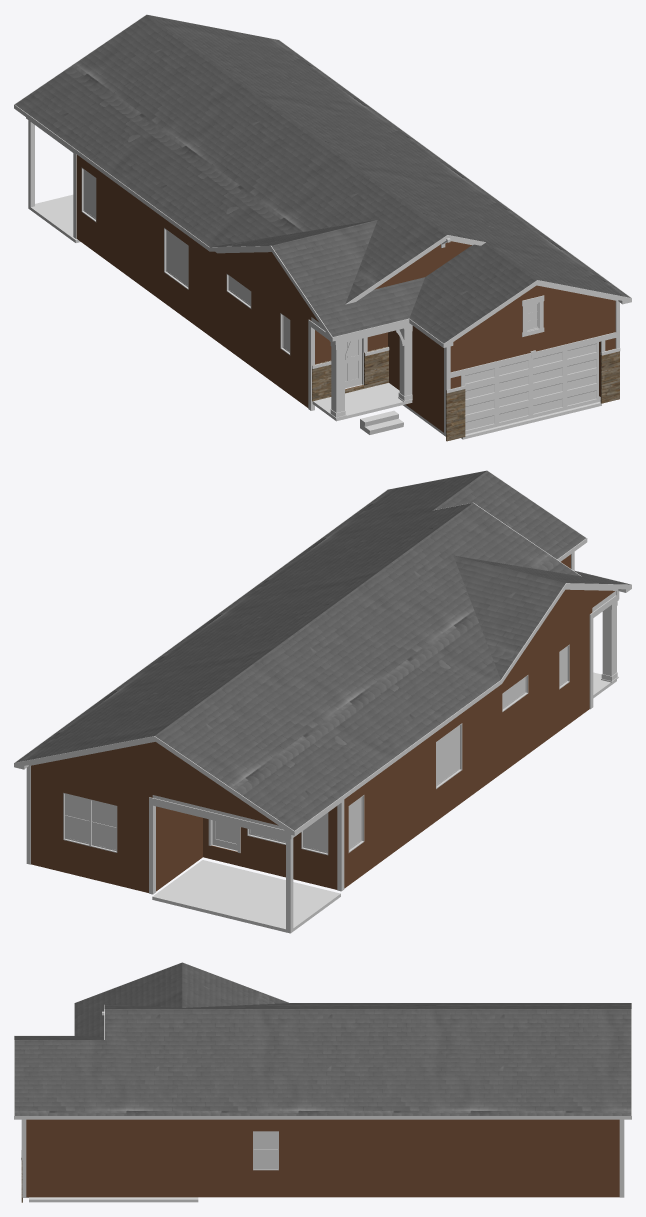
File: 129-1360-dm-farmhouse.glb
3 renders of one model, top to bottom at view 1: azimuth 30°, elevation 25°; view 2: azimuth 150°, elevation 25°; view 3: azimuth 270°, elevation 25°, orthographic. The views are drawn at different scales.
Visible parts, largest first — view 1: Basic Roof Wood Rafter 4" - Asphalt Shingle - Insulated_2f40, Basic Wall BSB Exterior - Stud_3.5" - Sheathing_0.5" - _a010, Basic Roof Wood Rafter 4" - Asphalt Shingle - Insulated_5ff0, Traditional - BSB Exterior - Overhead Garage Door - Clo_3337, Basic Wall BSB Exterior - Stud_3.5" - Sheathing_0.5" - _330f, Basic Wall BSB Exterior - Stud_3.5" - Sheathing_0.5" - _44ac, Fascia Fascia-Flat 1x6 w/12" Soffit Bd [4317748], Basic Wall BSB Exterior - Stud_3.5" - Sheathing_0.5" - _65a5, Basic Wall BSB Exterior - Stud_3.5" - Sheathing_0.5" - _ab2a, Basic Wall BSB Exterior - Stud_1.5" - Sheathing_0.5" - _2815, Basic Wall BSB Exterior - Stone Veneer_2" [4311974], Basic Wall BSB Exterior - Stud_3.5" - Sheathing_0.5" - _5f2e (+15 smaller); view 2: Basic Roof Wood Rafter 4" - Asphalt Shingle - Insulated_2f40, Basic Wall BSB Exterior - Stud_3.5" - Sheathing_0.5" - _a010, Basic Wall BSB Exterior - Stud_3.5" - Sheathing_0.5" - _e5d4, Basic Roof Wood Rafter 4" - Asphalt Shingle - Insulated_5ff0, Floor BSB Concrete Slab - 4" - Slope Option [4260206], Basic Wall BSB Exterior - Stud_3.5" - Sheathing_0.5" - _7def, Basic Wall BSB Exterior - Stud_3.5" - Sheathing_0.5" - _44ac, Basic Wall BSB Exterior - Stud_3.5" - Sheathing_0.5" - _a39f, Fascia Fascia-Flat 1x6 w/12" Soffit Bd [4317748], Basic Wall BSB Exterior - Stud_3.5" - Sheathing_0.5" - _ab2a, Basic Wall BSB Exterior - Stud_3.5" - Sheathing_0.5" - _99a9, Trim - Corner Boards Trim - Corner Boards [4308503] (+10 smaller); view 3: Basic Roof Wood Rafter 4" - Asphalt Shingle - Insulated_2f40, Basic Wall BSB Exterior - Stud_3.5" - Sheathing_0.5" - _4cd1, Basic Wall BSB Exterior - Stud_3.5" - Sheathing_0.5" - _eddb, Basic Roof Wood Rafter 4" - Asphalt Shingle - Insulated_5ff0, Basic Wall BSB Exterior - Stud_3.5" - Sheathing_0.5" - _428d, Fascia Fascia-Flat 1x6 w/12" Soffit Bd [4317748], BSB Single Hung 3050 SH w/ Sill [4265274], Floor BSB Concrete Slab - 4" - Slope Option [4274134], Trim - Corner Boards Trim - Corner Boards [4308503].
Boxes of the visible parts, x1,y1,x2,y2 form: Basic Roof Wood Rafter 4" - Asphalt Shingle - Insulated_2f40: [15, 15, 630, 343]; Basic Wall BSB Exterior - Stud_3.5" - Sheathing_0.5" - _a010: [76, 154, 207, 333]; Basic Roof Wood Rafter 4" - Asphalt Shingle - Insulated_5ff0: [210, 220, 424, 336]; Traditional - BSB Exterior - Overhead Garage Door - Clo_3337: [465, 342, 600, 434]; Basic Wall BSB Exterior - Stud_3.5" - Sheathing_0.5" - _330f: [450, 300, 615, 396]; Basic Wall BSB Exterior - Stud_3.5" - Sheathing_0.5" - _44ac: [207, 250, 269, 379]; Fascia Fascia-Flat 1x6 w/12" Soffit Bd [4317748]: [14, 14, 631, 347]; Basic Wall BSB Exterior - Stud_3.5" - Sheathing_0.5" - _65a5: [388, 326, 443, 432]; Basic Wall BSB Exterior - Stud_3.5" - Sheathing_0.5" - _ab2a: [269, 286, 305, 406]; Basic Wall BSB Exterior - Stud_1.5" - Sheathing_0.5" - _2815: [459, 285, 614, 338]; Basic Wall BSB Exterior - Stone Veneer_2" [4311974]: [446, 348, 619, 441]; Basic Wall BSB Exterior - Stud_3.5" - Sheathing_0.5" - _5f2e: [225, 252, 318, 321]; Basic Roof Wood Rafter 4" - Asphalt Shingle - Insulated_2f40: [15, 470, 585, 830]; Basic Wall BSB Exterior - Stud_3.5" - Sheathing_0.5" - _a010: [344, 699, 481, 888]; Basic Wall BSB Exterior - Stud_3.5" - Sheathing_0.5" - _e5d4: [31, 765, 152, 892]; Basic Roof Wood Rafter 4" - Asphalt Shingle - Insulated_5ff0: [453, 555, 630, 679]; Floor BSB Concrete Slab - 4" - Slope Option [4260206]: [152, 860, 340, 933]; Basic Wall BSB Exterior - Stud_3.5" - Sheathing_0.5" - _7def: [32, 742, 278, 825]; Basic Wall BSB Exterior - Stud_3.5" - Sheathing_0.5" - _44ac: [482, 641, 547, 787]; Basic Wall BSB Exterior - Stud_3.5" - Sheathing_0.5" - _a39f: [203, 806, 337, 889]; Fascia Fascia-Flat 1x6 w/12" Soffit Bd [4317748]: [15, 470, 630, 834]; Basic Wall BSB Exterior - Stud_3.5" - Sheathing_0.5" - _ab2a: [547, 613, 586, 739]; Basic Wall BSB Exterior - Stud_3.5" - Sheathing_0.5" - _99a9: [156, 806, 202, 891]; Trim - Corner Boards Trim - Corner Boards [4308503]: [26, 552, 618, 894]; Basic Roof Wood Rafter 4" - Asphalt Shingle - Insulated_2f40: [14, 1003, 631, 1115]; Basic Wall BSB Exterior - Stud_3.5" - Sheathing_0.5" - _4cd1: [199, 1119, 619, 1197]; Basic Wall BSB Exterior - Stud_3.5" - Sheathing_0.5" - _eddb: [96, 1119, 199, 1197]; Basic Roof Wood Rafter 4" - Asphalt Shingle - Insulated_5ff0: [74, 962, 289, 1037]; Basic Wall BSB Exterior - Stud_3.5" - Sheathing_0.5" - _428d: [26, 1119, 96, 1197]; Fascia Fascia-Flat 1x6 w/12" Soffit Bd [4317748]: [14, 962, 631, 1119]; BSB Single Hung 3050 SH w/ Sill [4265274]: [253, 1131, 278, 1170]; Floor BSB Concrete Slab - 4" - Slope Option [4274134]: [23, 1197, 198, 1202]; Trim - Corner Boards Trim - Corner Boards [4308503]: [21, 1119, 624, 1197].
Bounding box in the file's own units: 9.49 × 5.58 × 21.88.
3 materials, 2 textured.
